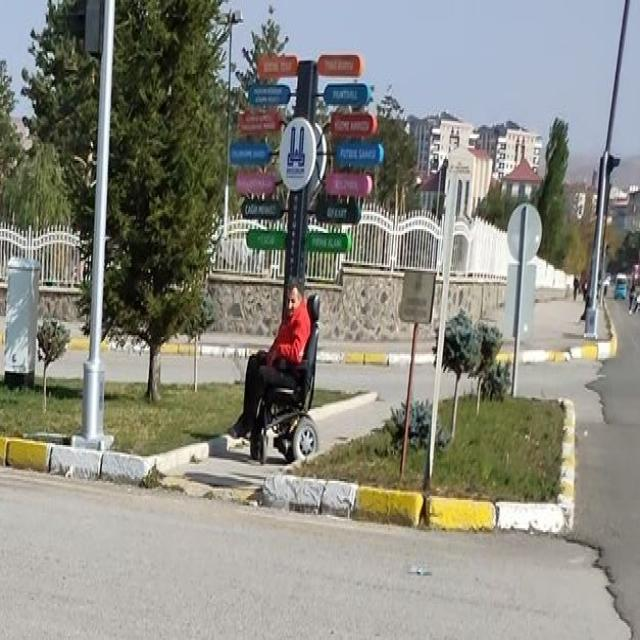wheelchairs: (247, 311, 323, 473)
